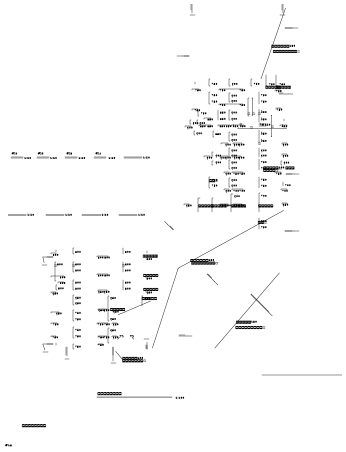wall: (252, 98, 270, 119)
